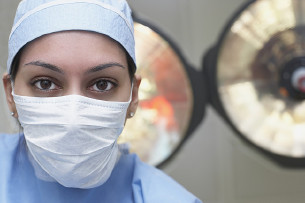face_mask: (16, 34, 130, 184)
